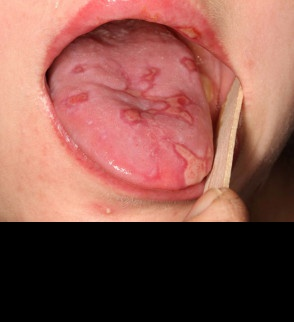SJS-TEN: (18, 0, 266, 224)
